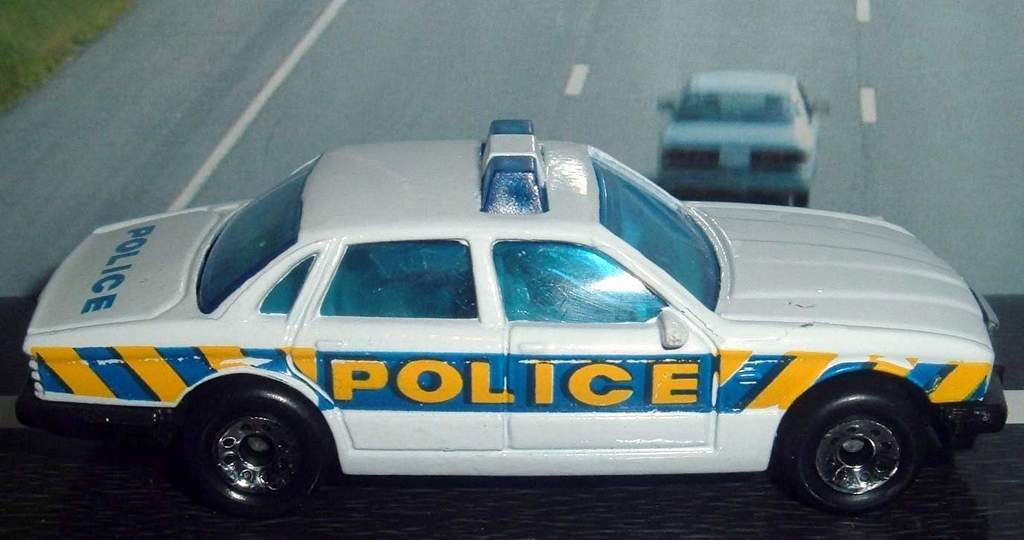cars: (21, 125, 1005, 505), (657, 67, 825, 207)
